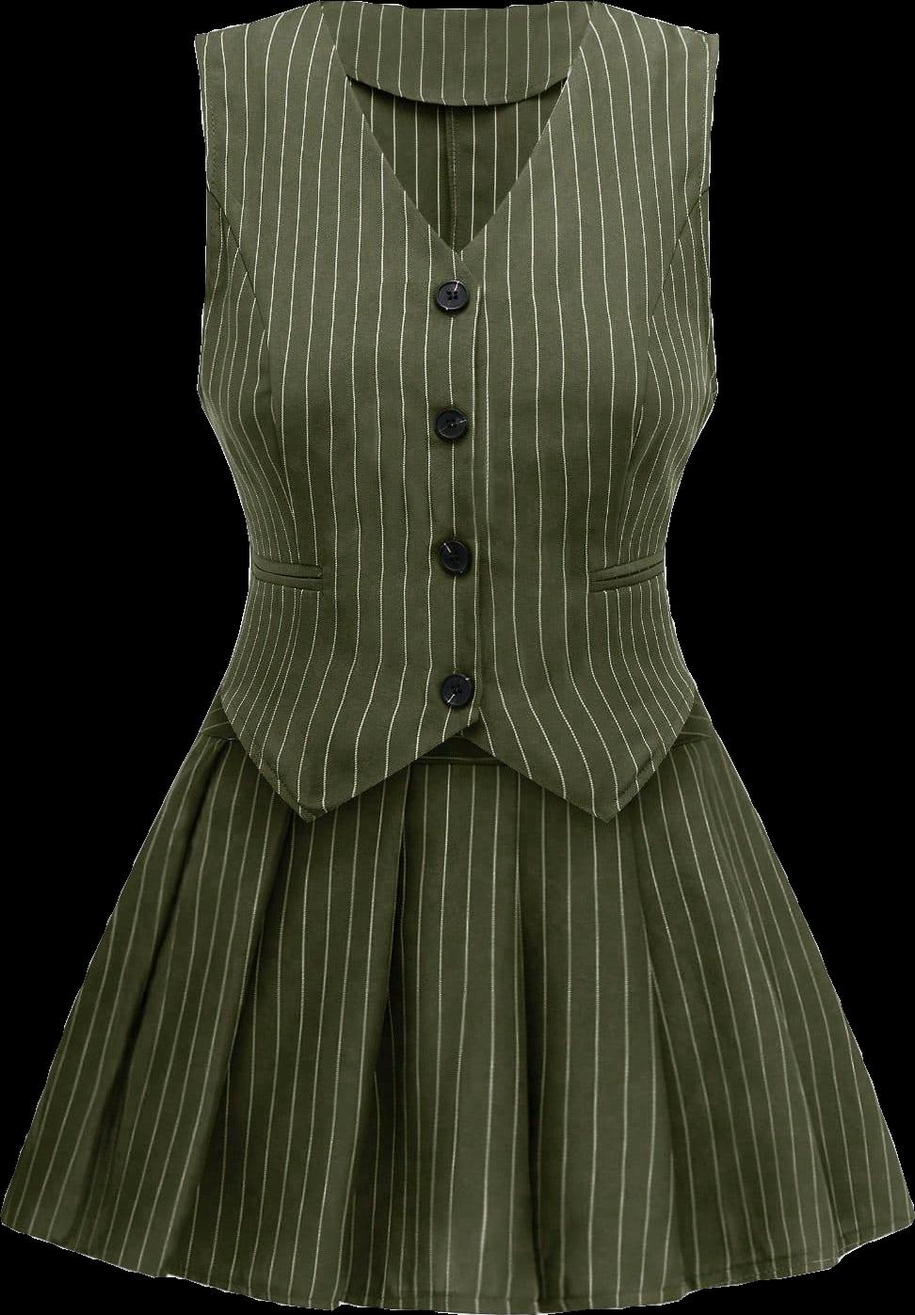Bodice: (195, 2, 718, 827)
Hemline: (0, 1207, 914, 1313)
Neckline: (315, 3, 598, 261)
Skirt: (1, 693, 914, 1314)
Waistline: (213, 696, 708, 833)
